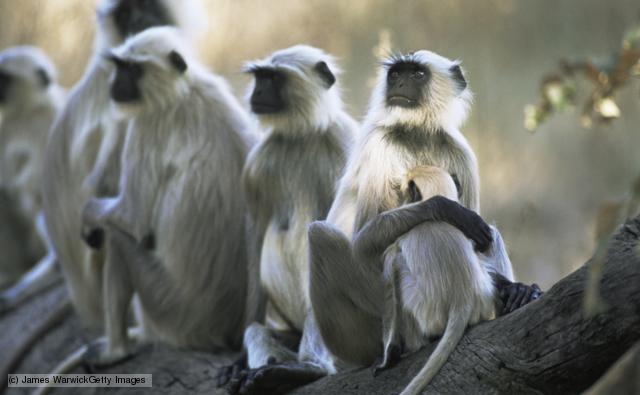langur: (306, 37, 515, 379), (78, 25, 276, 367), (38, 1, 168, 341), (241, 43, 359, 349)
